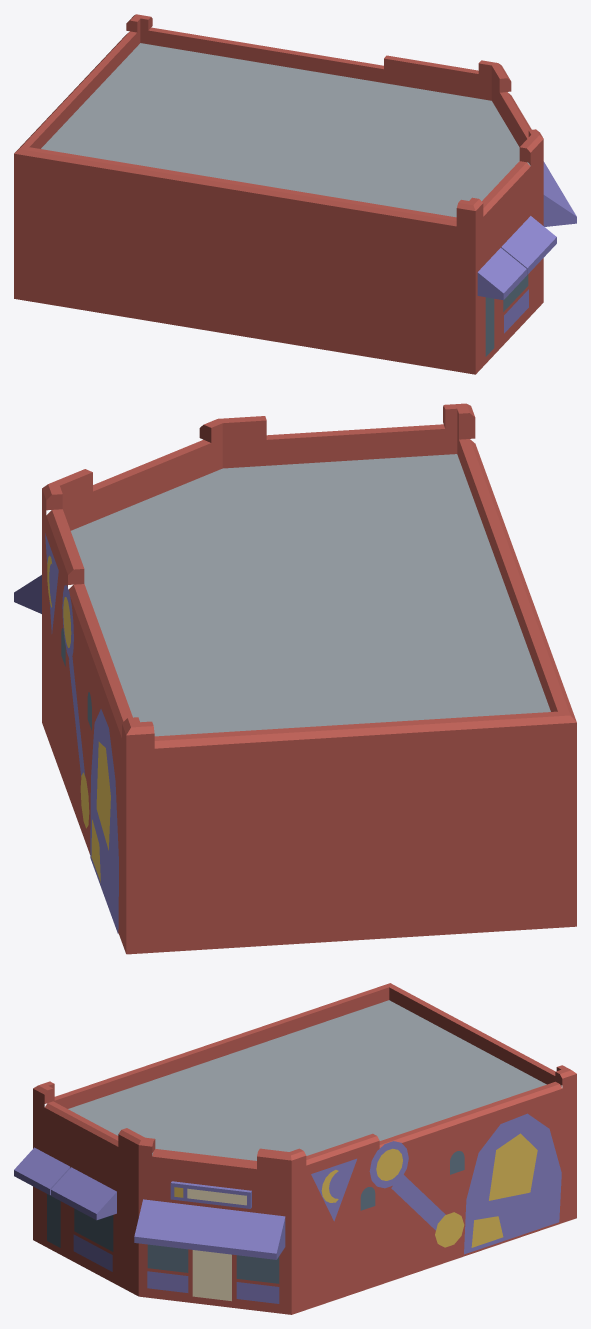
File: detail.glb
The picture shows the model from 3 angles, top to bottom: view 1: azimuth 30°, elevation 25°; view 2: azimuth 150°, elevation 25°; view 3: azimuth 270°, elevation 25°; orthographic projection. The views are drawn at different scales.
Visible parts, largest first — view 1: the-evening-muse; view 2: the-evening-muse; view 3: the-evening-muse.
Boxes of the visible parts, x1,y1,x2,y2 form: the-evening-muse: (14,14,576,374); the-evening-muse: (14,403,576,954); the-evening-muse: (14,983,576,1314).
Bounding box in the file's own units: 15.76 × 5.55 × 17.95.
